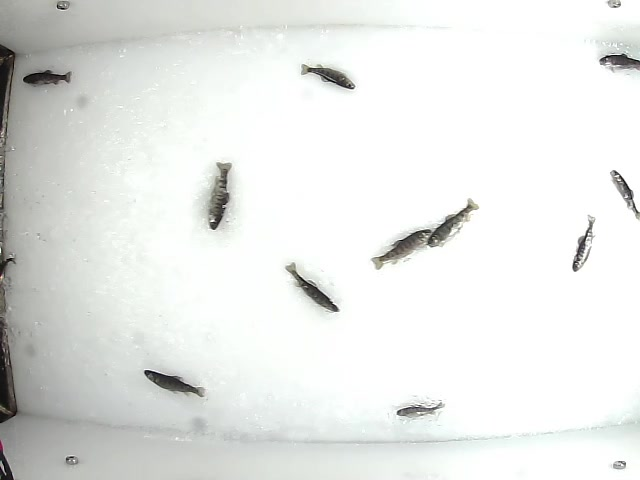fish: (283, 259, 342, 315), (424, 197, 480, 250), (369, 226, 433, 272), (204, 161, 236, 232), (142, 368, 207, 400), (299, 61, 358, 91), (570, 212, 598, 274), (609, 169, 640, 223), (393, 396, 446, 419), (21, 69, 76, 88)
